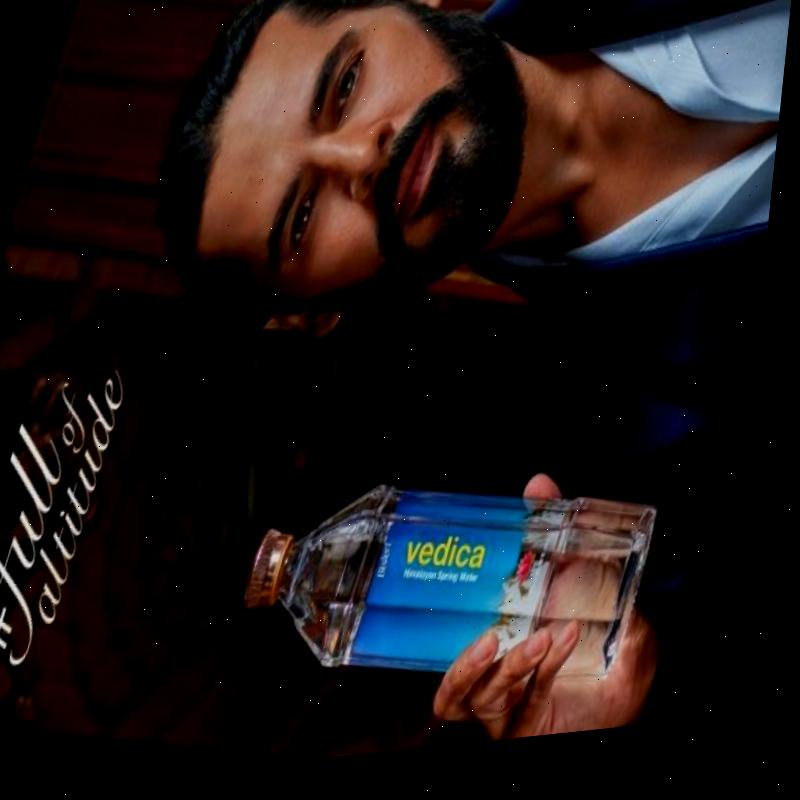botella: (231, 434, 682, 748)
